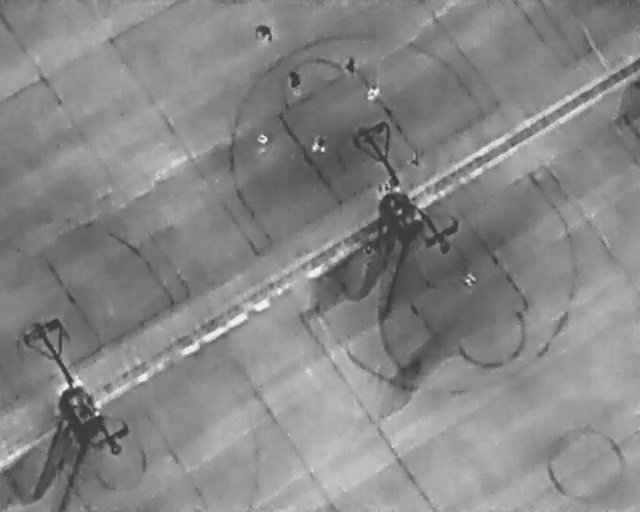Person: (308, 132, 329, 156), (286, 68, 303, 97), (363, 81, 383, 105), (254, 24, 274, 45), (254, 132, 270, 156), (344, 54, 357, 77), (361, 243, 377, 259), (463, 271, 478, 288), (409, 151, 421, 168), (382, 179, 392, 195), (376, 180, 384, 198)
